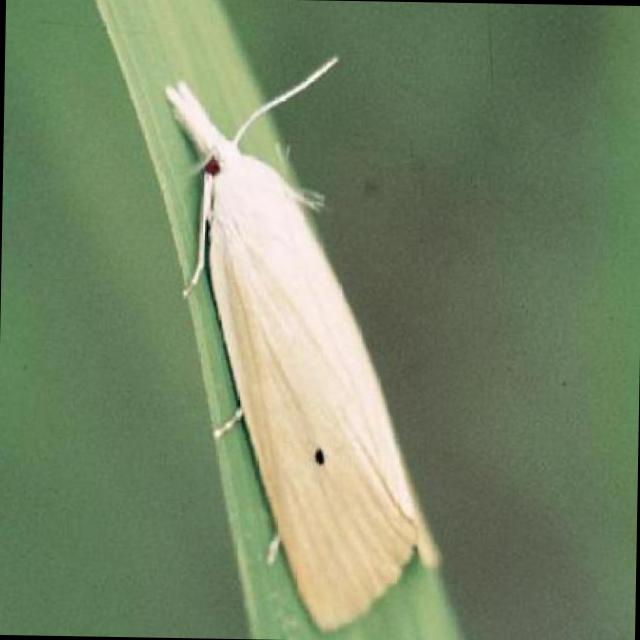stem-borer: (150, 71, 455, 640)
